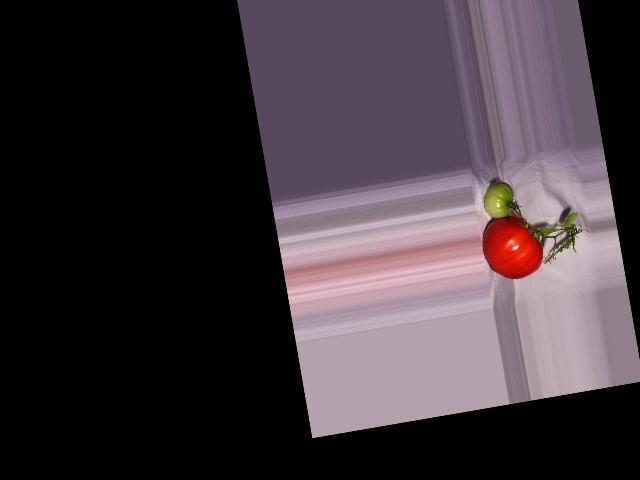tomato: (478, 210, 546, 283)
